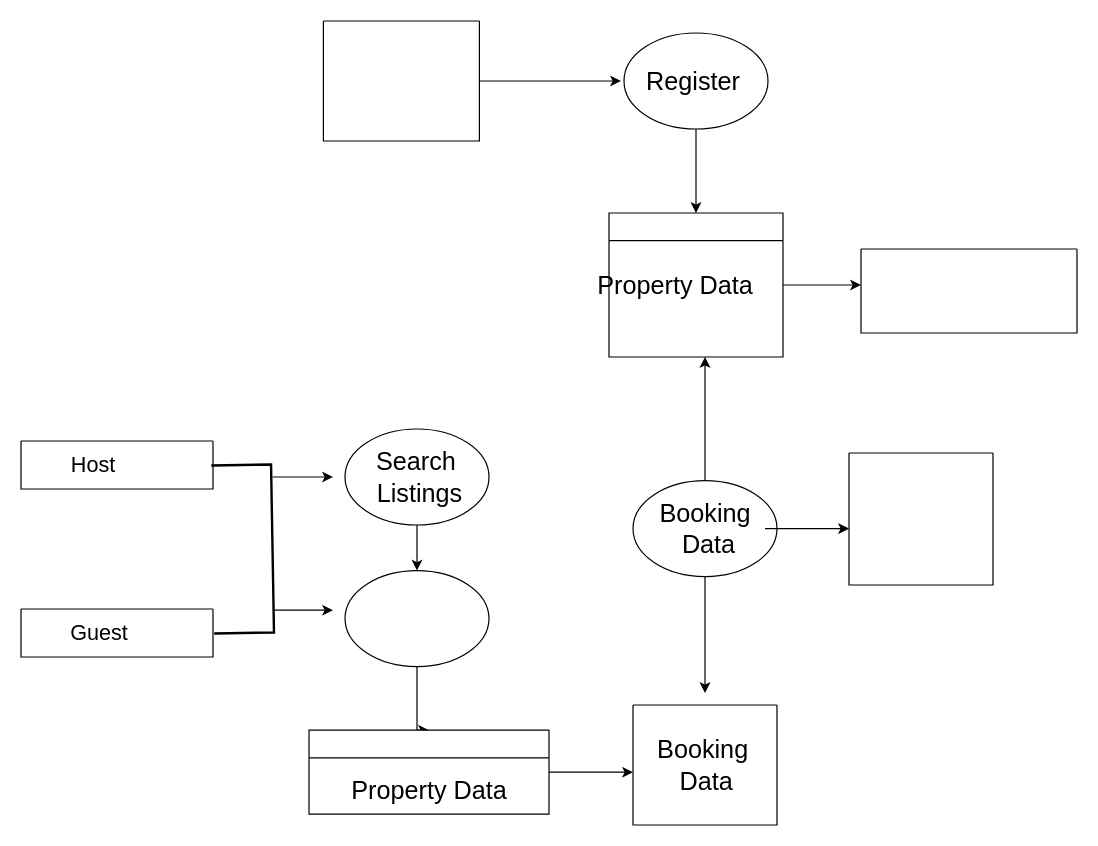
Some shapes in this 1098 by 846 pixel diagram are drawn without their labels. Each missing label, with the box of its shape:
Admin: (848, 452, 993, 585)
Book Property: (344, 569, 489, 667)
Payment System: (860, 248, 1077, 333)
User Data: (322, 20, 479, 141)
